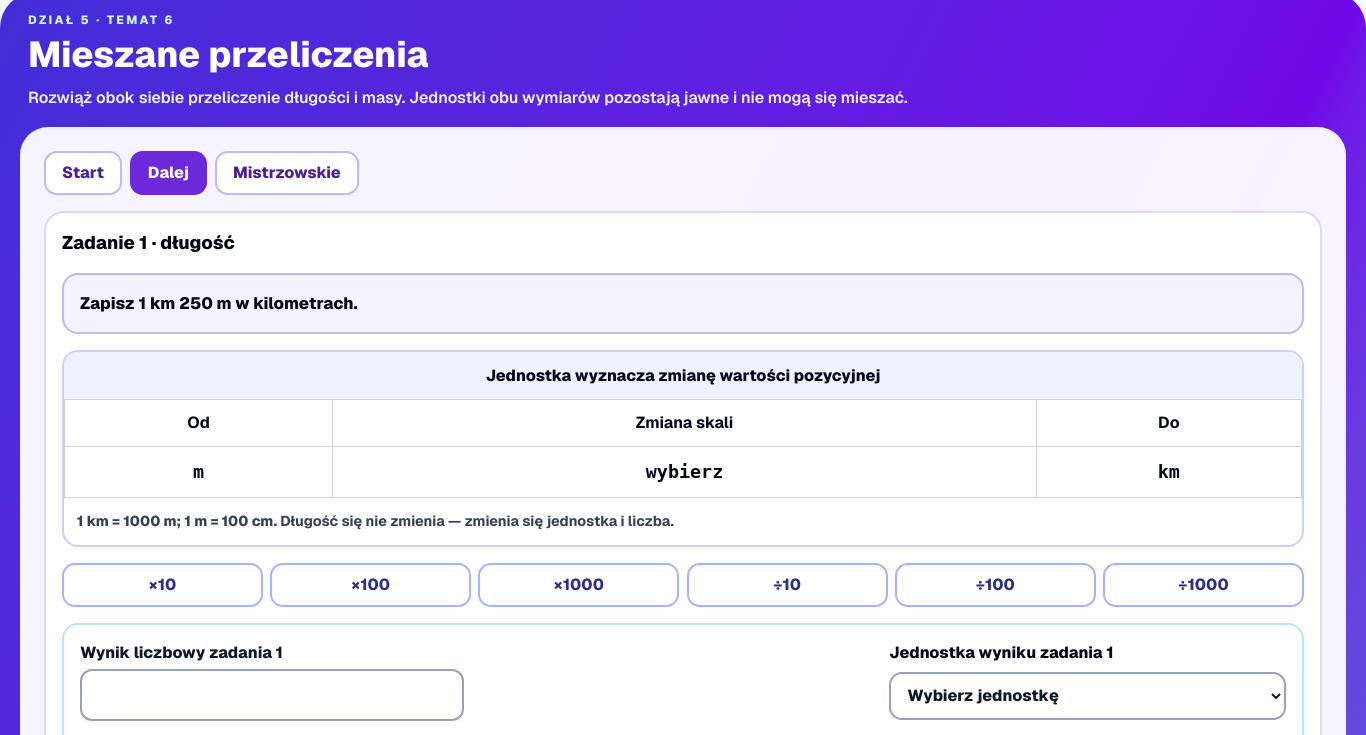
Test: DecimalMeasurementL2Lab przez lokalny adapter decimal-notation-l1 › rozwiązuje obok siebie długość i masę bez mieszania jednostek
The image size is (1366, 735).
Click the button "÷1000". click: x=1204, y=585
box: [1103,563,1304,607]
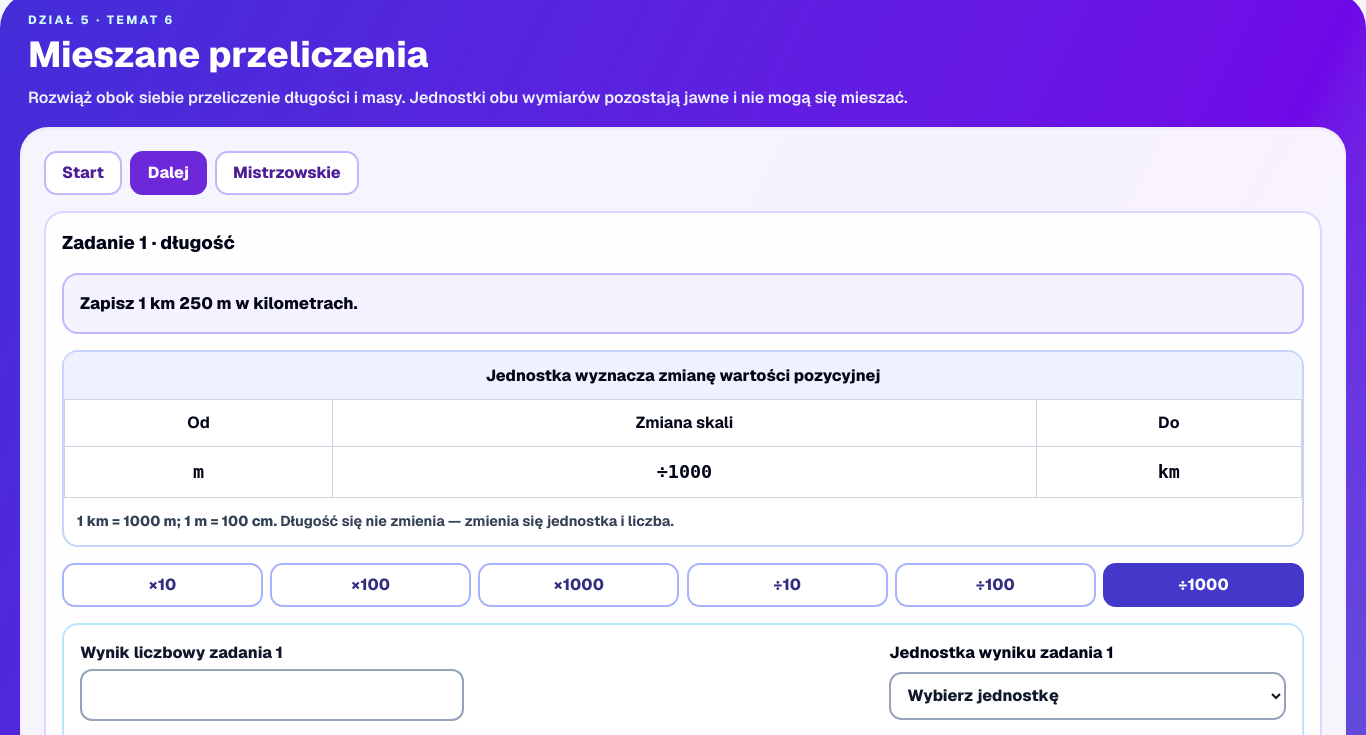
Type "1,25" into the field labelled "Wynik liczbowy zadania 1". click: x=272, y=695
box: [80,669,464,721]
Select "km — kilometry" in the dropdown labelled "Jednostka wyniku zadania 1". click: x=1088, y=696
box: [889,672,1286,720]
(page scrolled)
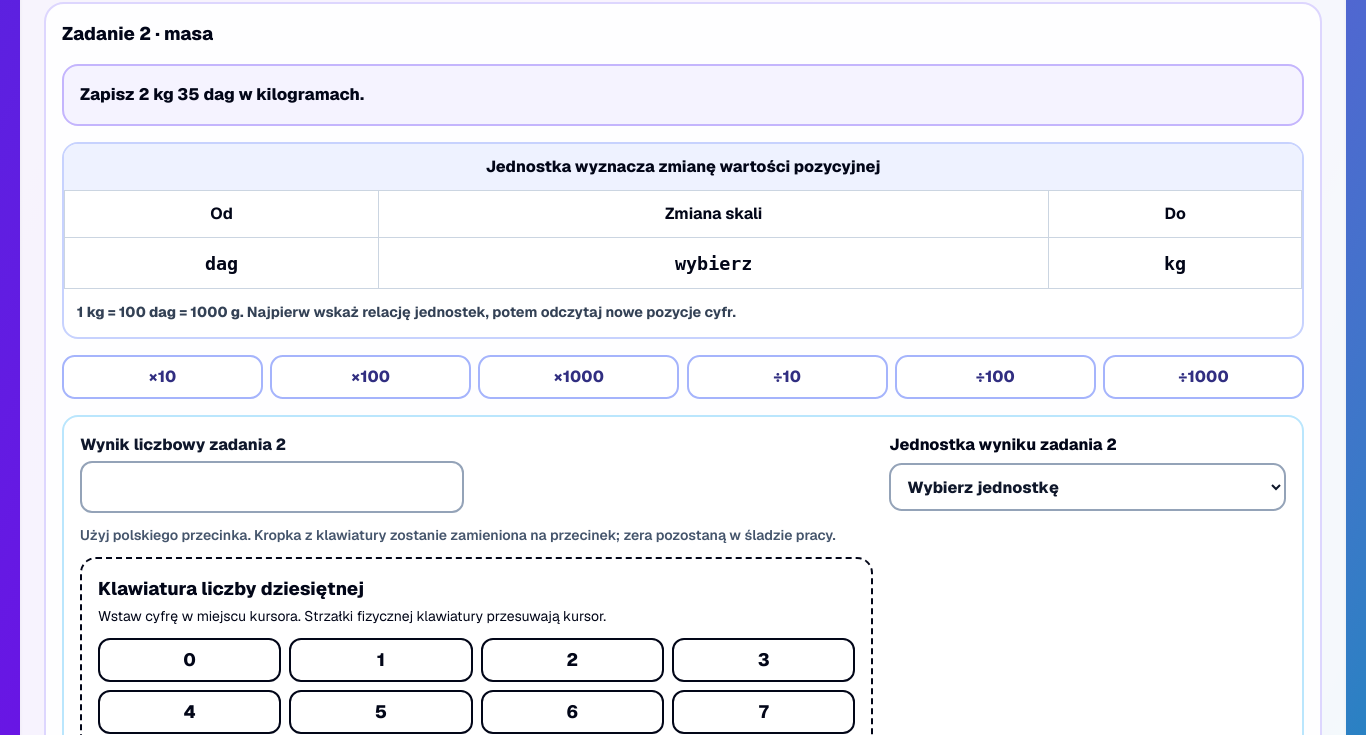
Click the button "÷100". click: x=995, y=377
box: [895,355,1096,399]
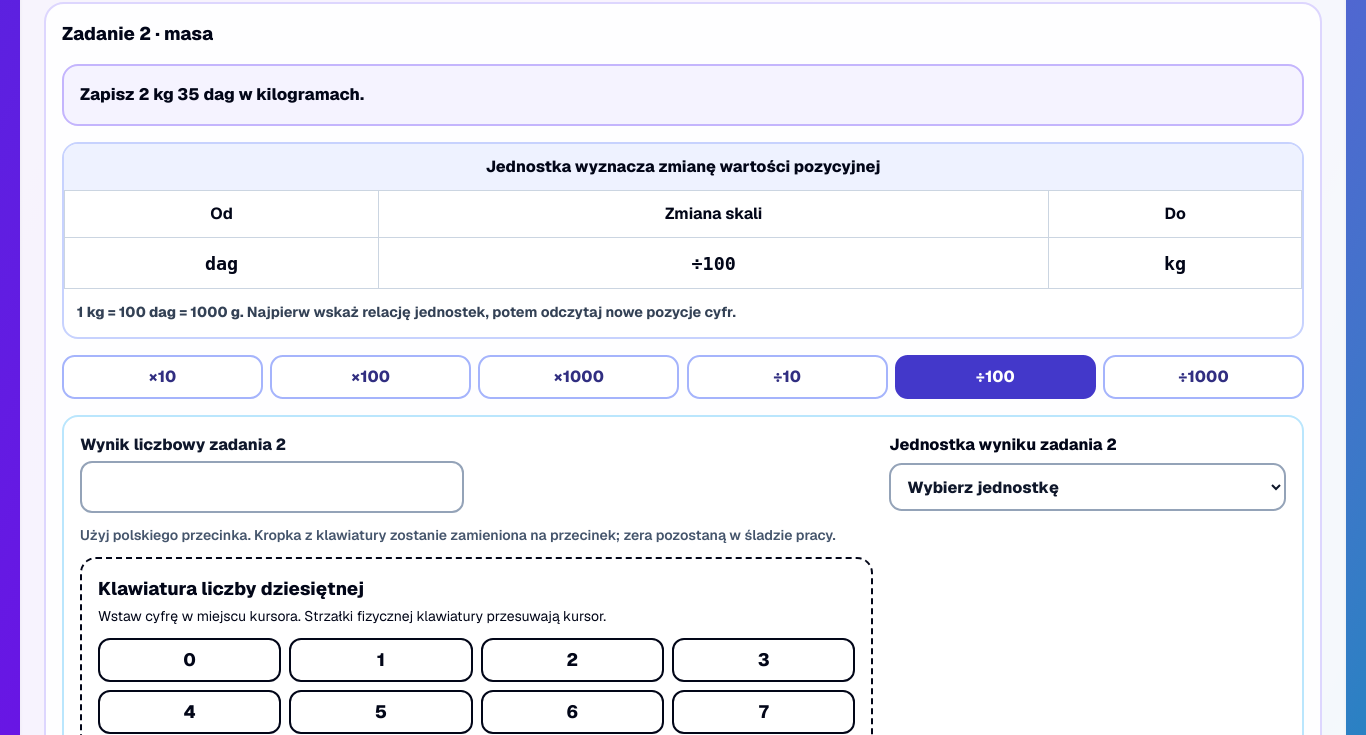
Type "2,35" into the field labelled "Wynik liczbowy zadania 2". click: x=272, y=487
box: [80,461,464,513]
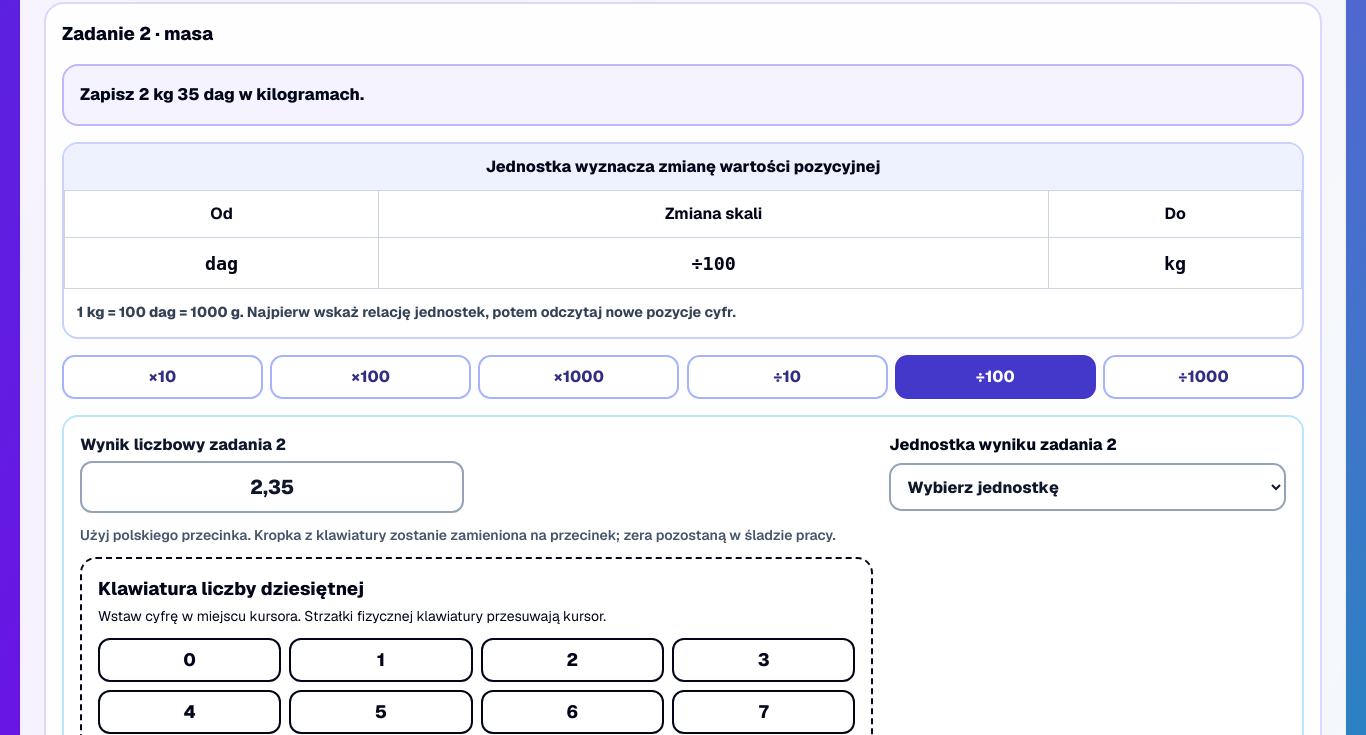
Select "kg — kilogramy" in the dropdown labelled "Jednostka wyniku zadania 2". click: x=1088, y=487
box: [889,463,1286,511]
(page scrolled)
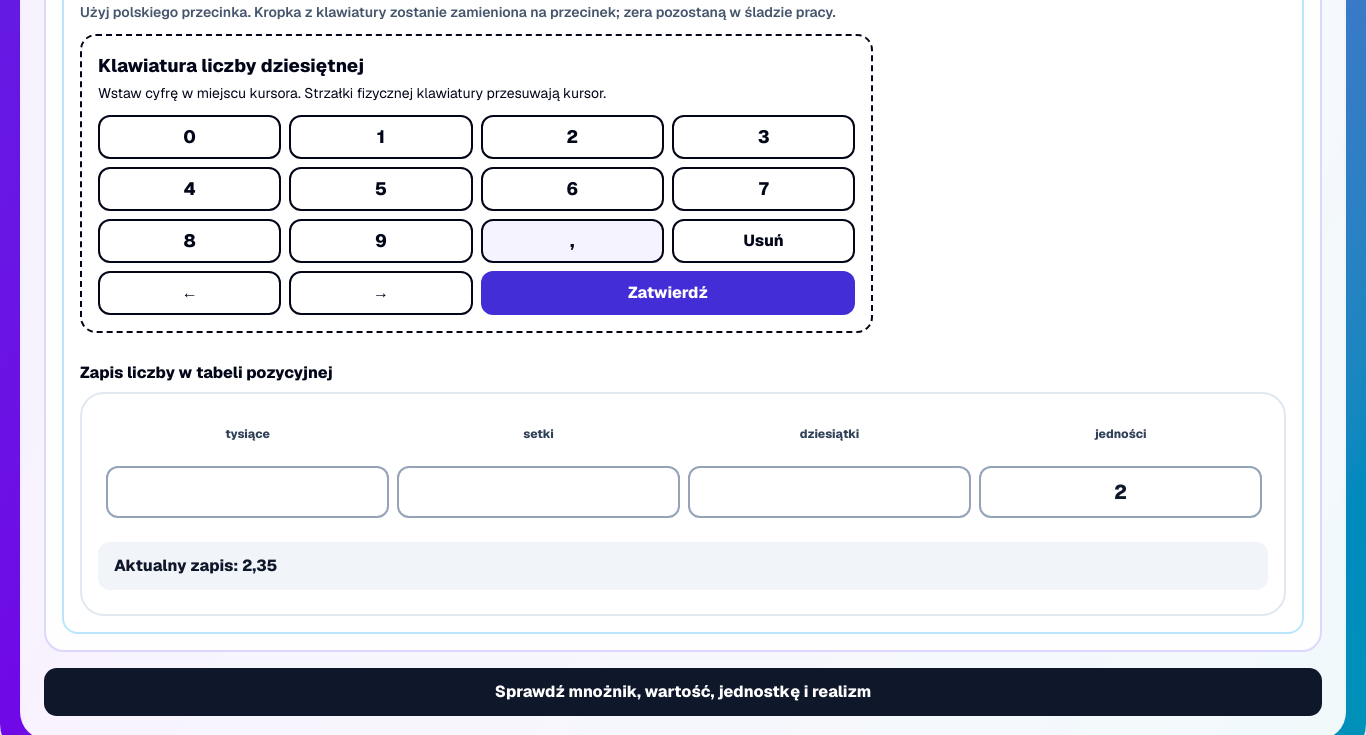
Click the button "Sprawdź mnożnik, wartość, jednostkę i realizm". click: x=683, y=692
box: [44,668,1322,716]
(page scrolled)
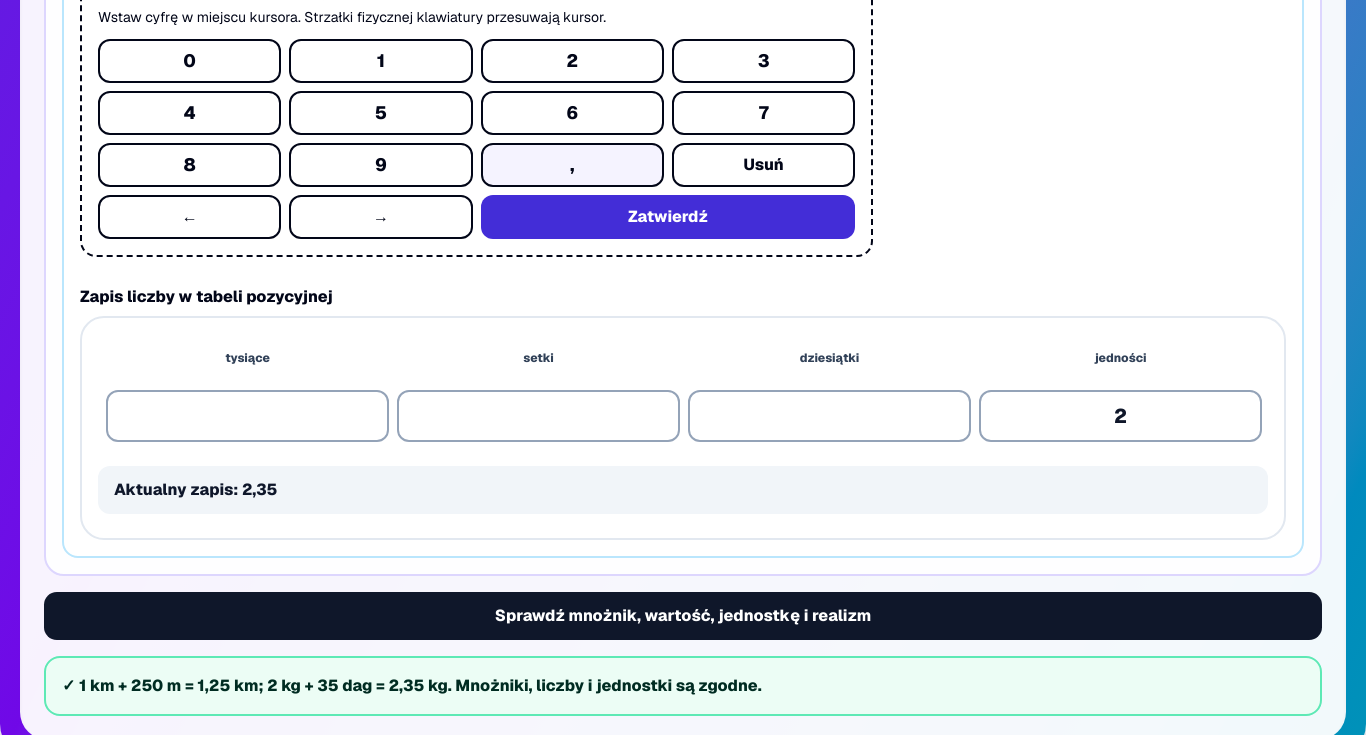
expect the message shows "1 km + 250 m = 1,25 km; 2 kg + 35 dag = 2,35 kg": met, box [79,675,762,696]
